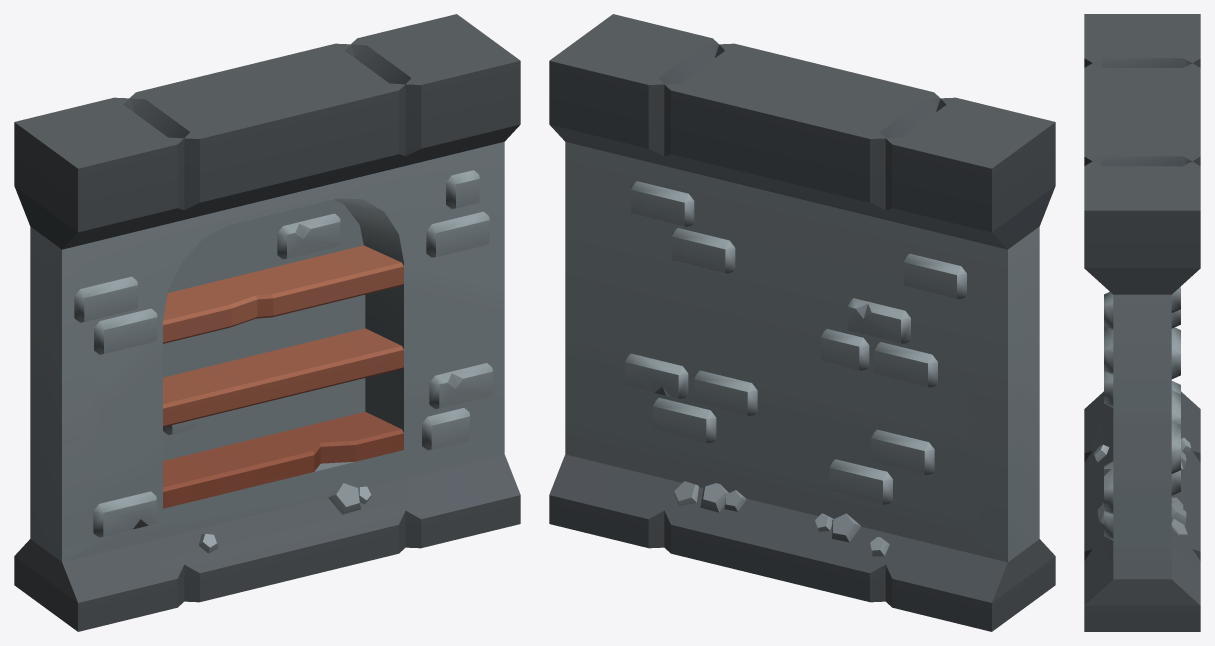
File: wall_inset_shelves.glb
3 renders of one model, left to right at view 1: azimuth 30°, elevation 25°; view 2: azimuth 150°, elevation 25°; view 3: azimuth 270°, elevation 25°, orthographic. The views are drawn at different scales.
Visible parts, largest first — view 1: wall_inset_shelves; view 2: wall_inset_shelves; view 3: wall_inset_shelves.
Boxes of the visible parts, left/top/right/bottom form: wall_inset_shelves: left=14, top=14, right=520, bottom=631; wall_inset_shelves: left=549, top=14, right=1055, bottom=631; wall_inset_shelves: left=1084, top=14, right=1200, bottom=631.
Size of the model in its own units: 4 by 4 by 1.
1 material, 1 textured.
